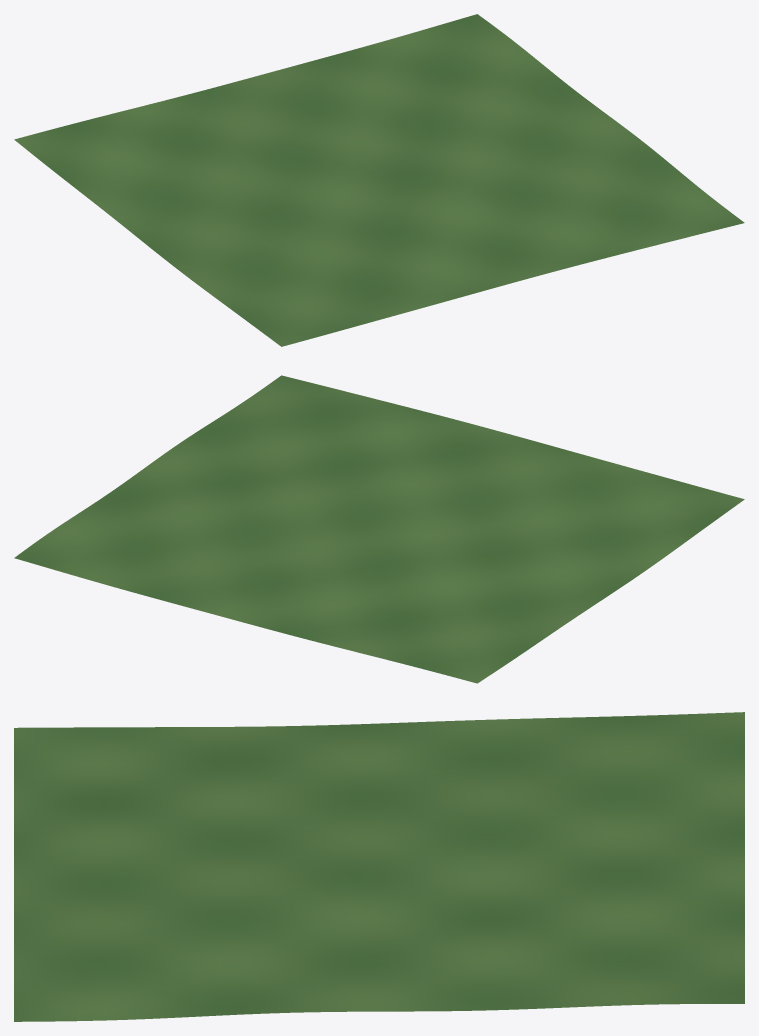
Rendered from chunk_6_8.glb.
The picture shows the model from 3 angles, top to bottom: view 1: azimuth 30°, elevation 25°; view 2: azimuth 150°, elevation 25°; view 3: azimuth 270°, elevation 25°; orthographic projection. The views are drawn at different scales.
Bounding box in the file's own units: 512 × 25.37 × 512.
